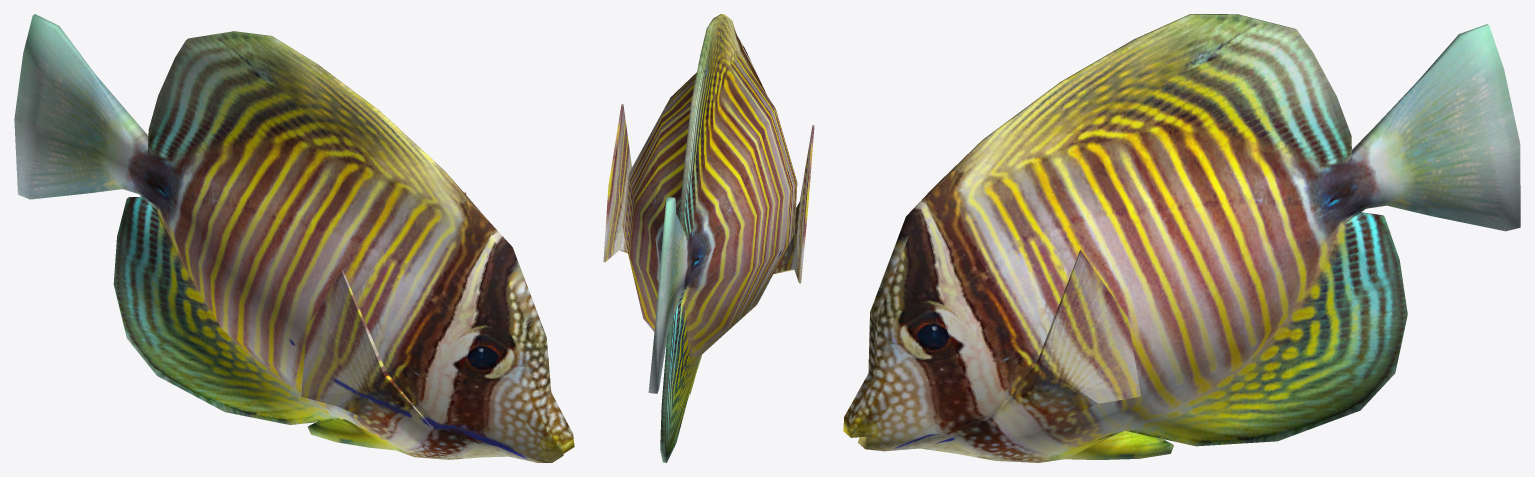
File: TropicalFish01.fbx
3 views of the same model, side by side, from view 1: azimuth 30°, elevation 25°; view 2: azimuth 150°, elevation 25°; view 3: azimuth 270°, elevation 25° (orthographic). The views are drawn at different scales.
Parts seen in each view (by area): view 1: node_id5; view 2: node_id5; view 3: node_id5.
Boxes of the visible parts, box(x1,y1,x2,y2) form: node_id5: box(14, 14, 574, 462); node_id5: box(603, 14, 814, 462); node_id5: box(843, 14, 1520, 462).
Bounding box in the file's own units: 0.2055 × 0.3083 × 0.4416.
Materials: 1 (1 with a texture image).
